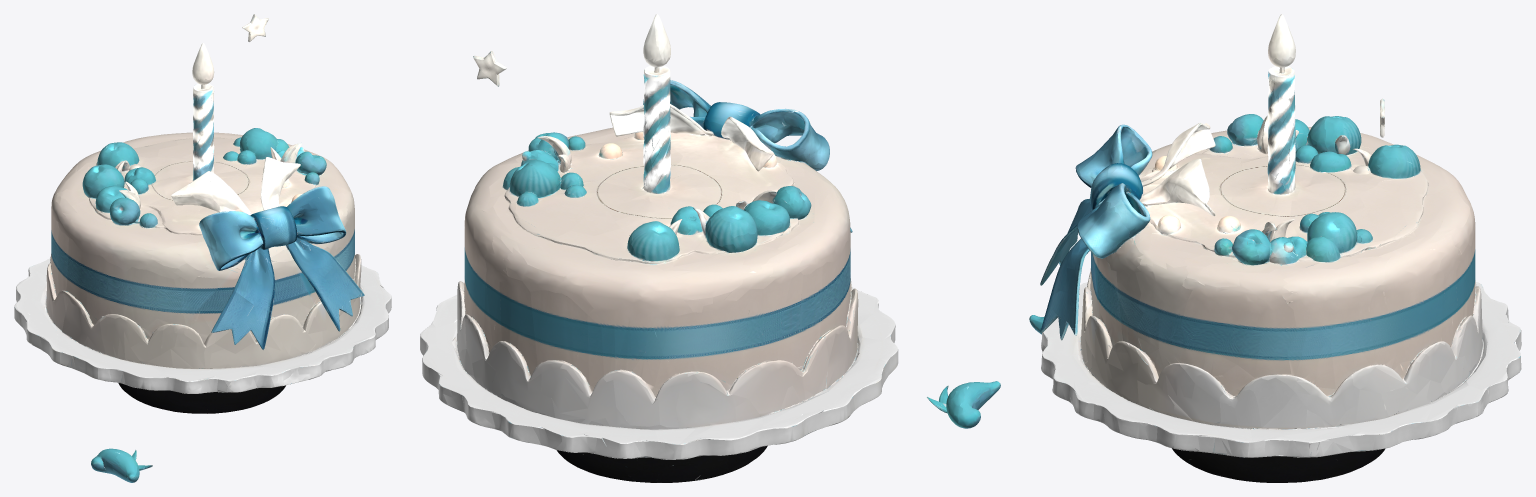
File: fuongthenn-birthday-cake.glb
3 views of the same model, side by side, from view 1: azimuth 30°, elevation 25°; view 2: azimuth 150°, elevation 25°; view 3: azimuth 270°, elevation 25° (orthographic). The views are drawn at different scales.
Bounding box in the file's own units: 1.9 × 1.78 × 1.86.
1 material, 1 textured.
